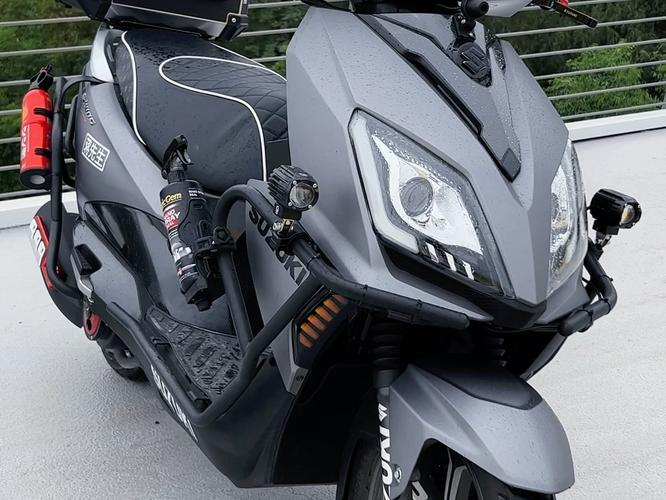摩托车: (25, 2, 642, 497)
